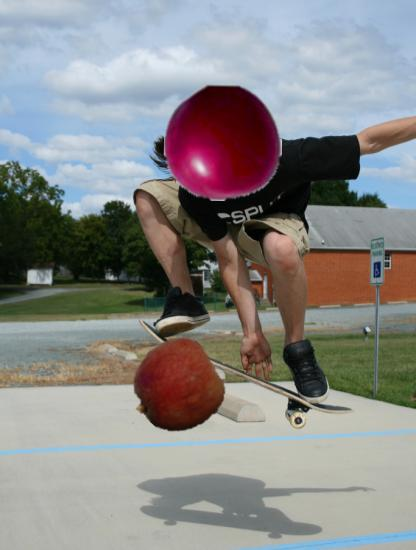Cherry: (164, 83, 283, 202)
Peach: (133, 341, 225, 433)
